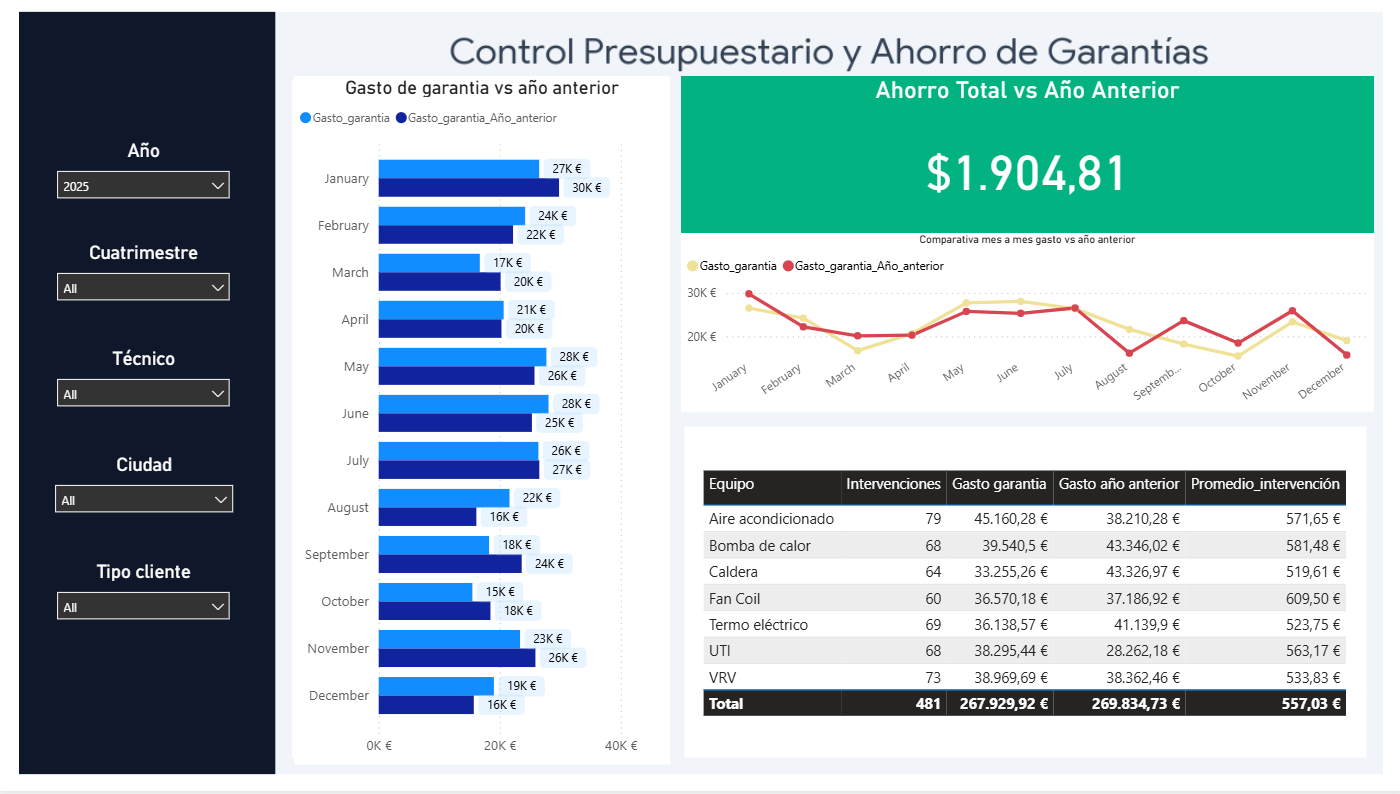

This screenshot's page, from the dashboard's own definition file:
{"tool":"powerbi","page":{"name":"Budget Garantías","canvas":[1280,720],"ordinal":1},"visuals":[{"type":"slicer","title":"Año","fields":{"Values":["CalendarBridge.Date.Variation.Date Hierarchy.Year"]},"box":[44.7,126.9,177.5,64.6],"z":0},{"type":"slicer","title":"Cuatrimestre","fields":{"Values":["CalendarBridge.Date.Variation.Date Hierarchy.Quarter"]},"box":[44.7,219.8,177.5,68.2],"z":1000},{"type":"slicer","title":"Técnico","fields":{"Values":["Tecnicos.Nombre"]},"box":[44.7,316.2,177.5,68.2],"z":2000},{"type":"slicer","title":"Ciudad","fields":{"Values":["Clientes.Ciudad"]},"box":[42.3,412.6,182.2,69.3],"z":3000},{"type":"slicer","title":"Tipo cliente","fields":{"Values":["Clientes.TipoCliente"]},"box":[44.7,510.1,177.5,68.2],"z":4000},{"type":"clusteredBarChart","title":"Gasto de garantia vs año anterior","fields":{"Category":["CalendarBridge.Date.Variation.Date Hierarchy.Month"],"Y":["Bloque_financiero_DAX.Gasto_garantia","Bloque_financiero_DAX.Gasto_garantia_Año_anterior"]},"box":[270,70,341.8,626.4],"z":4001},{"type":"card","title":"Ahorro Total vs Año Anterior","fields":{"Values":["Bloque_financiero_DAX.Variacion_año_anterior"]},"box":[621.8,70,630,142.7],"z":4002},{"type":"lineChart","title":"Comparativa mes a mes gasto vs año anterior","fields":{"Category":["CalendarBridge.Date.Variation.Date Hierarchy.Month"],"Y":["Bloque_financiero_DAX.Gasto_garantia","Bloque_financiero_DAX.Gasto_garantia_Año_anterior"]},"box":[621.8,212.7,630,162.7],"z":4003},{"type":"tableEx","fields":{"Values":["Intervenciones.EquipoTipo","Bloque_eficiencia_DAX.Total_intervenciones","Bloque_financiero_DAX.Gasto_garantia","Bloque_financiero_DAX.Gasto_garantia_Año_anterior","Bloque_financiero_DAX.Gasto_promedio"]},"box":[636.4,423.6,600.9,240.9],"z":4004}]}

Visuals, with their boxes in screenshot pixels (x1, y1, x2, y2), scaled from the page's 1280x720 canvas onto the 1400x794 screenshot:
"Año" slicer: region(49, 140, 243, 211)
"Cuatrimestre" slicer: region(49, 242, 243, 318)
"Técnico" slicer: region(49, 349, 243, 424)
"Ciudad" slicer: region(46, 455, 246, 531)
"Tipo cliente" slicer: region(49, 563, 243, 638)
"Gasto de garantia vs año anterior" clusteredBarChart: region(295, 77, 669, 768)
"Ahorro Total vs Año Anterior" card: region(680, 77, 1369, 235)
"Comparativa mes a mes gasto vs año anterior" lineChart: region(680, 235, 1369, 414)
tableEx - Intervenciones.EquipoTipo x Bloque_eficiencia_DAX.Total_intervenciones: region(696, 467, 1353, 733)
